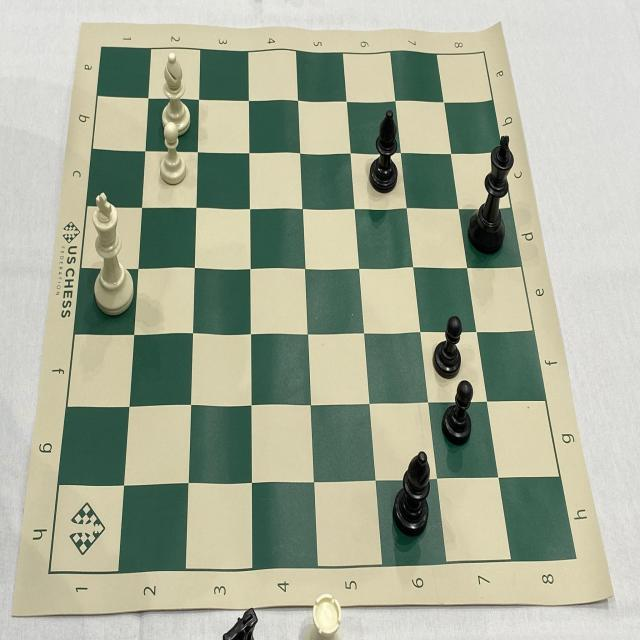black-bishop: (383, 442, 438, 541), (364, 98, 406, 198)
black-king: (465, 132, 520, 263)
black-pawn: (434, 378, 476, 449), (428, 312, 467, 382)
white-bishop: (157, 46, 196, 140)
white-king: (86, 185, 139, 324)
white-pawn: (153, 121, 194, 188)
